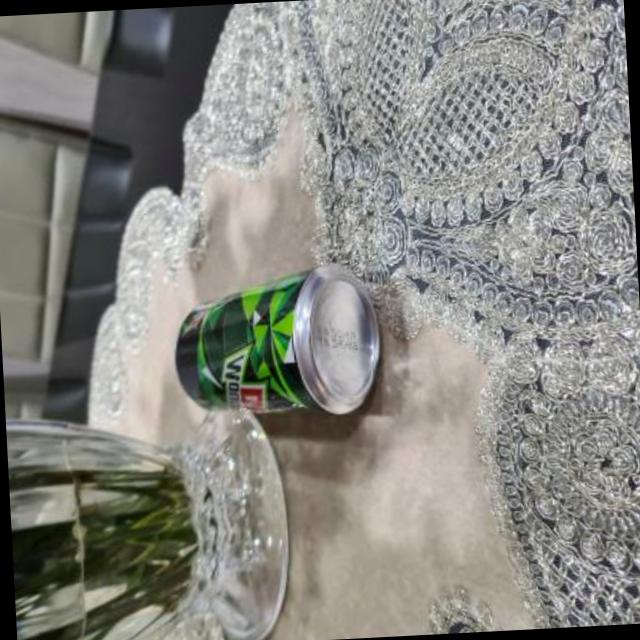metal: (172, 264, 376, 411)
